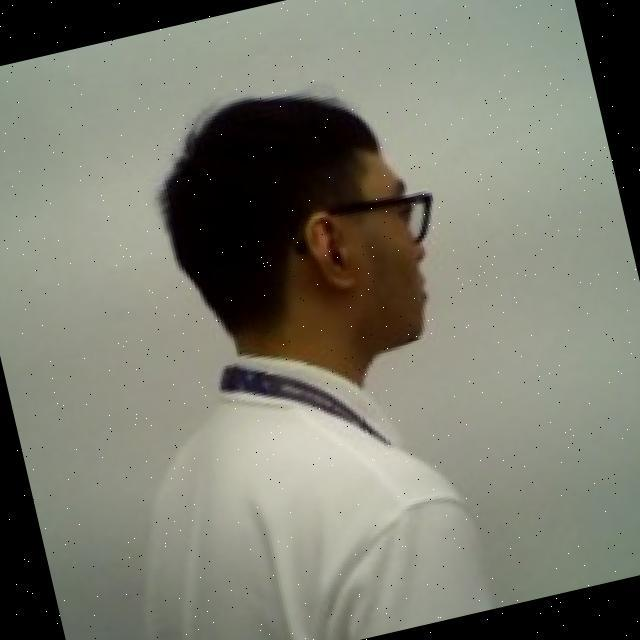no_gloves: (134, 60, 421, 352)
no_hairnet: (284, 183, 456, 382)
